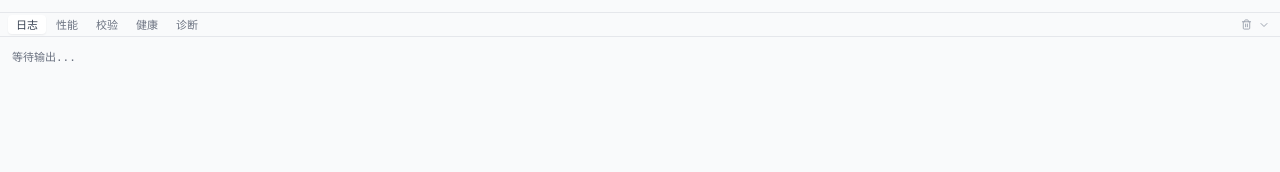
Test case: ValidationReportPanel（F5-5 面板） › LogPanel 含「校验」tab，点击切换到校验面板
The image size is (1280, 172).
Click the button "校验" at (107, 24), box [88,15,126,34]
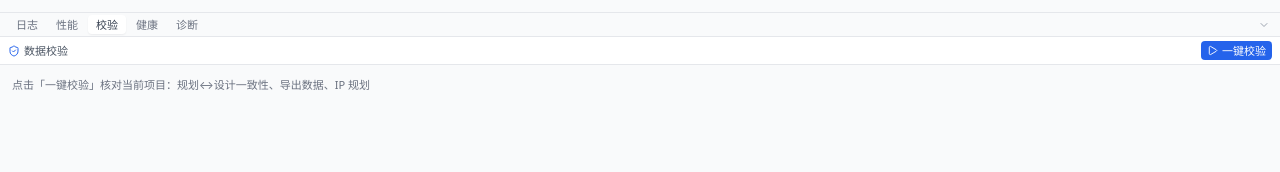
Now the button "一键校验" is shown, box [1201,41,1272,60]
